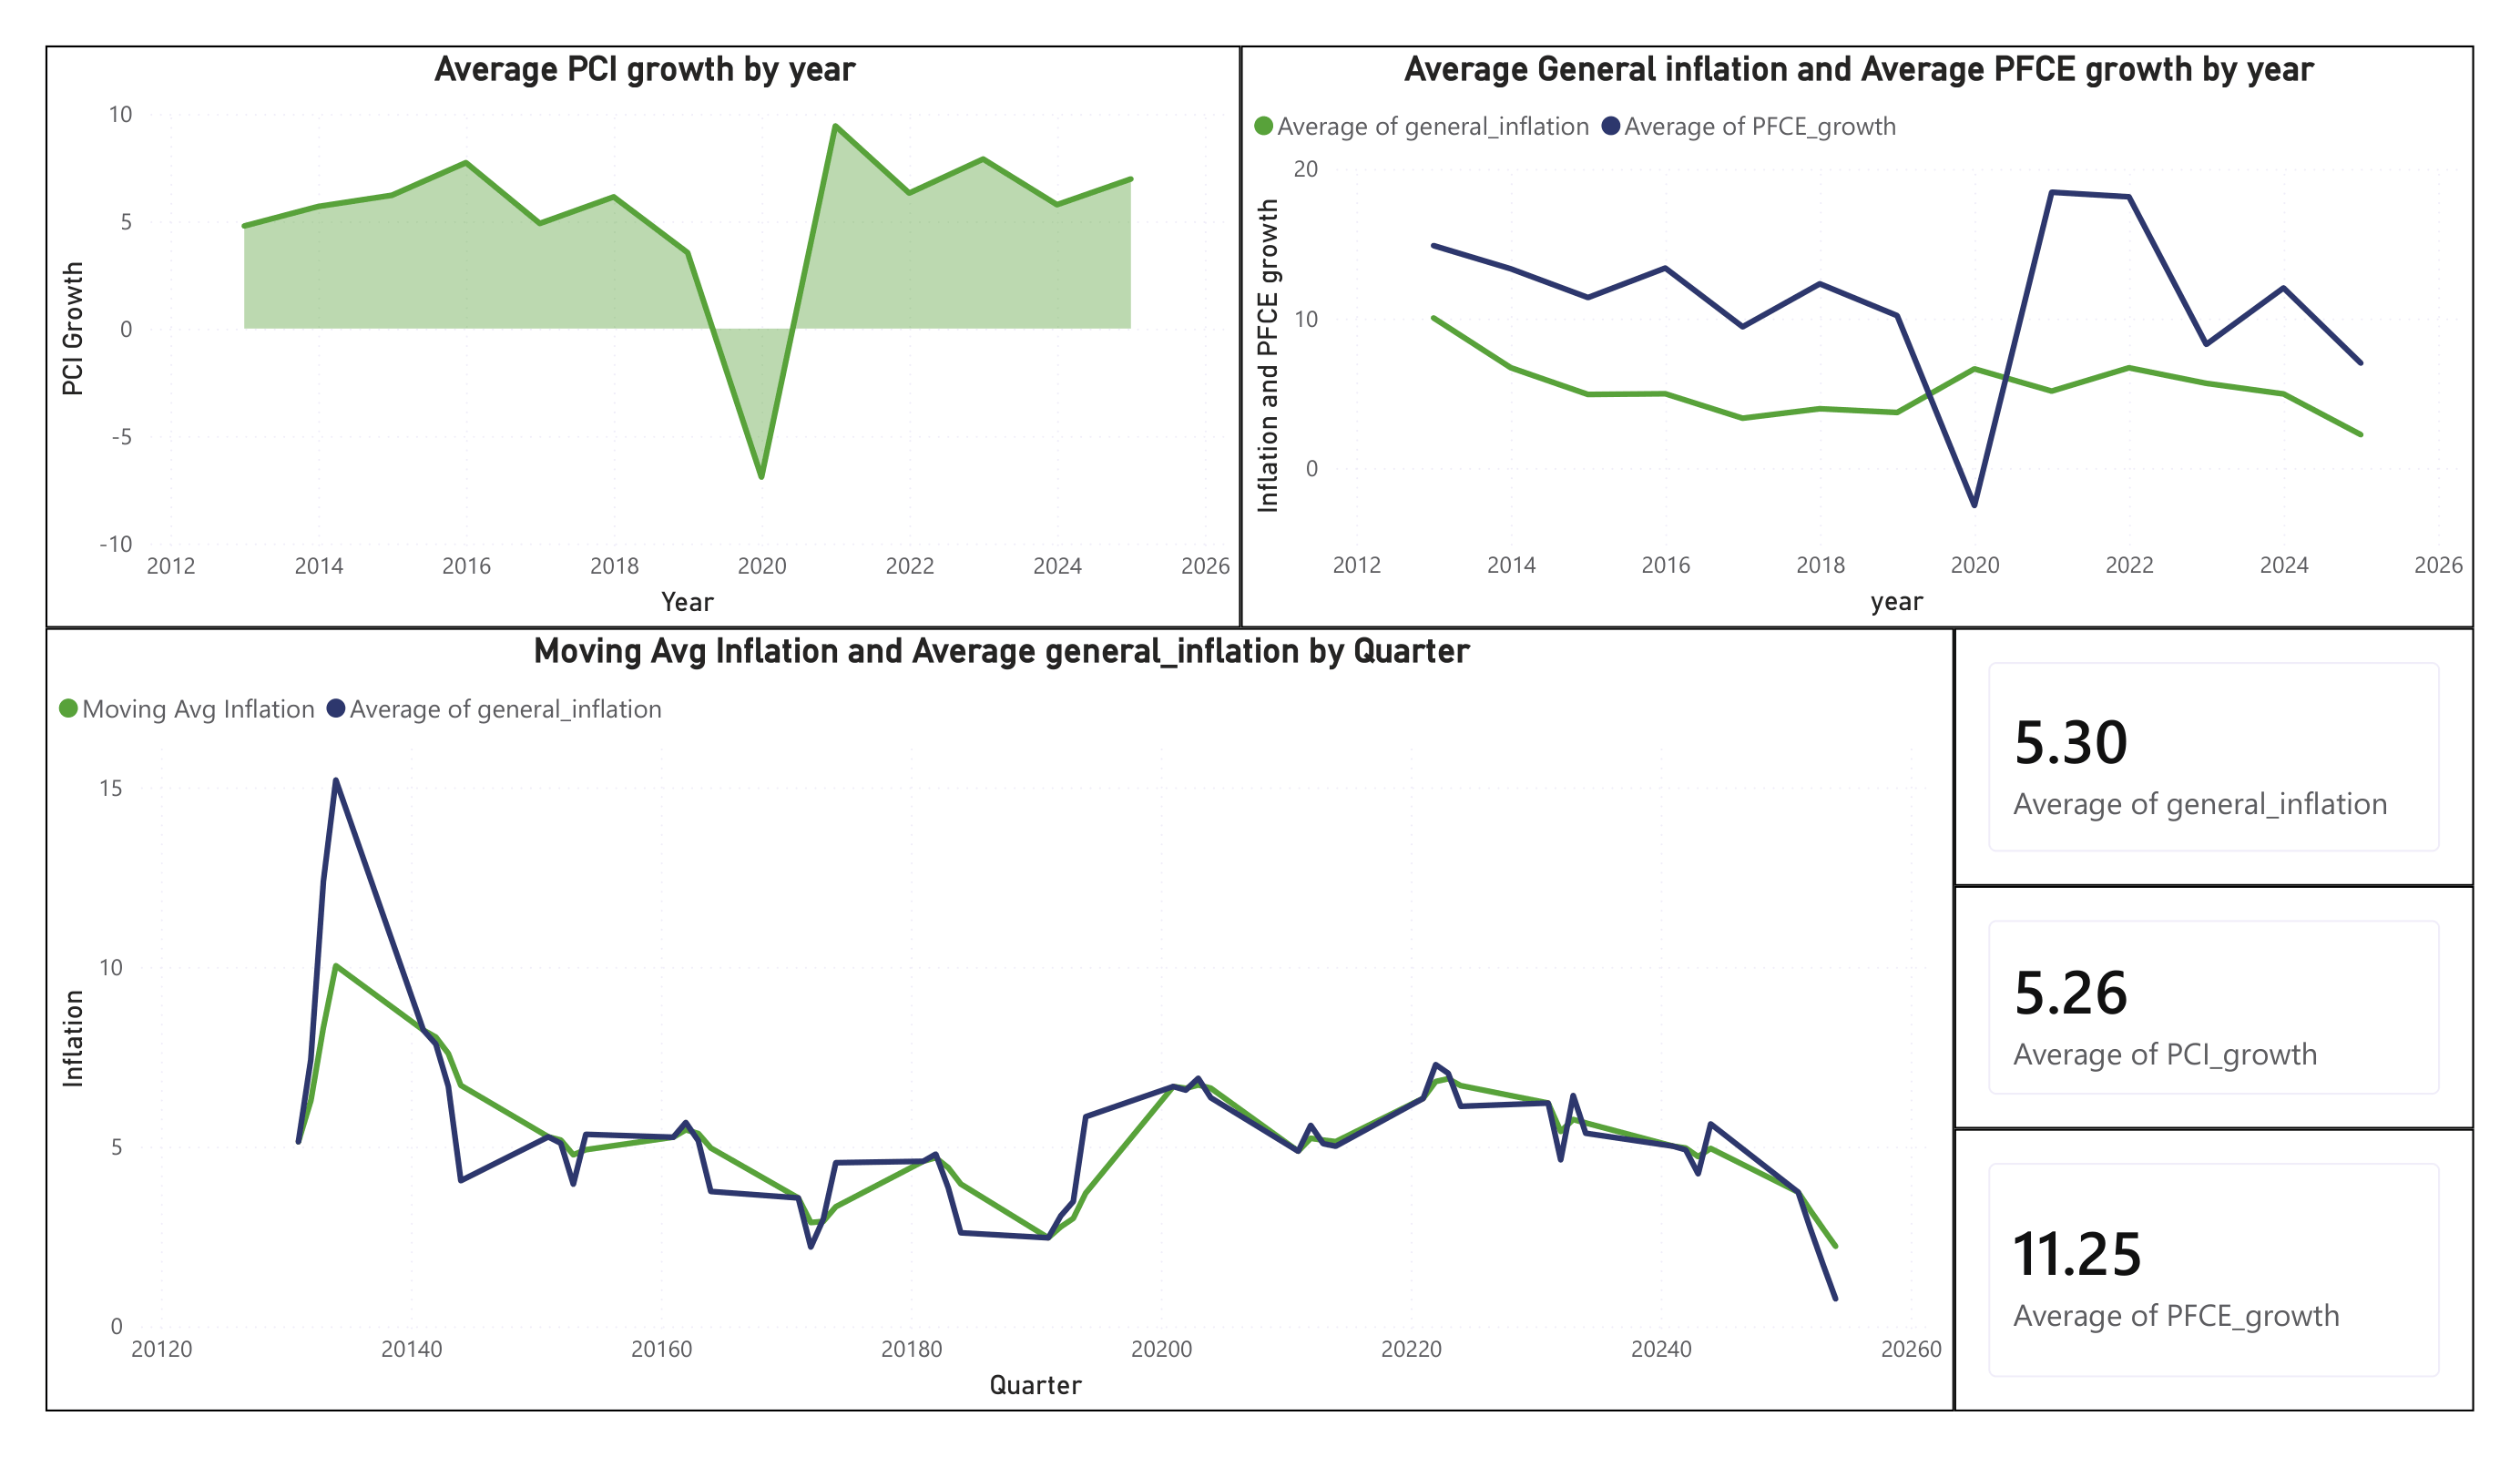

The dashboard page shown, as its layout file describes it:
{"tool":"powerbi","page":{"name":"Macroeconomic review","canvas":[1280,720],"ordinal":0},"visuals":[{"type":"cardVisual","title":"Average General Inflation","fields":{"Data":["Avg(final dataset.general_inflation)"]},"box":[1005.7,307.1,274.3,135.7],"z":0},{"type":"lineChart","title":"Average General inflation and Average PFCE growth by year","fields":{"Y":["Avg(final dataset.general_inflation)","Avg(final dataset.PFCE_growth)"],"Category":["final dataset.year"]},"box":[630,0,650,307.1],"z":1000},{"type":"stackedAreaChart","title":"Average PCI growth by year","fields":{"Category":["final dataset.year"],"Y":["Avg(final dataset.PCI_growth)"]},"box":[0,0,630,307.1],"z":2000},{"type":"lineChart","title":"Moving Avg Inflation and Average general_inflation by Quarter","fields":{"Y":["final dataset.Moving Avg Inflation","Avg(final dataset.general_inflation)"],"Category":["final dataset.Quarter_Index"]},"box":[0,307.1,1005.7,412.9],"z":3000},{"type":"cardVisual","fields":{"Data":["Avg(final dataset.PFCE_growth)"]},"box":[1005.7,571.4,274.3,148.6],"z":4000},{"type":"cardVisual","title":"Average ","fields":{"Data":["Avg(final dataset.PCI_growth)"]},"box":[1005.7,442.9,274.3,128.6],"z":5000}]}

Visuals, with their boxes in screenshot pixels (x1, y1, x2, y2):
"Average General Inflation" cardVisual: bbox=(1949, 621, 2463, 875)
"Average General inflation and Average PFCE growth by year" lineChart: bbox=(1246, 46, 2463, 621)
"Average PCI growth by year" stackedAreaChart: bbox=(66, 46, 1246, 621)
"Moving Avg Inflation and Average general_inflation by Quarter" lineChart: bbox=(66, 621, 1949, 1394)
cardVisual - Avg(final dataset.PFCE_growth): bbox=(1949, 1116, 2463, 1394)
"Average " cardVisual: bbox=(1949, 875, 2463, 1116)
